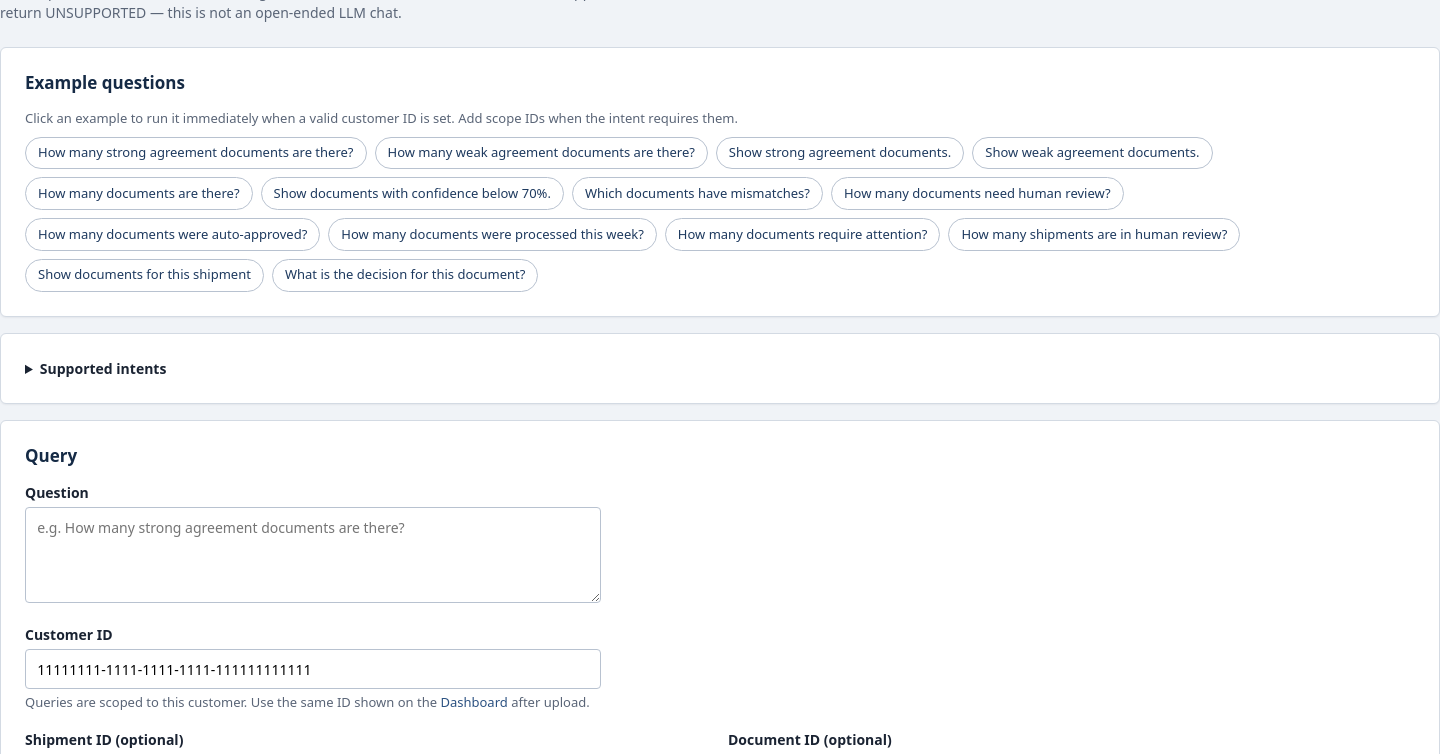
Test: QueryPage › runs an example query immediately when customer id is set
Step 1. Click the list item "How many documents are there?" → (139, 194), box [25,177,252,210]
(page scrolled)
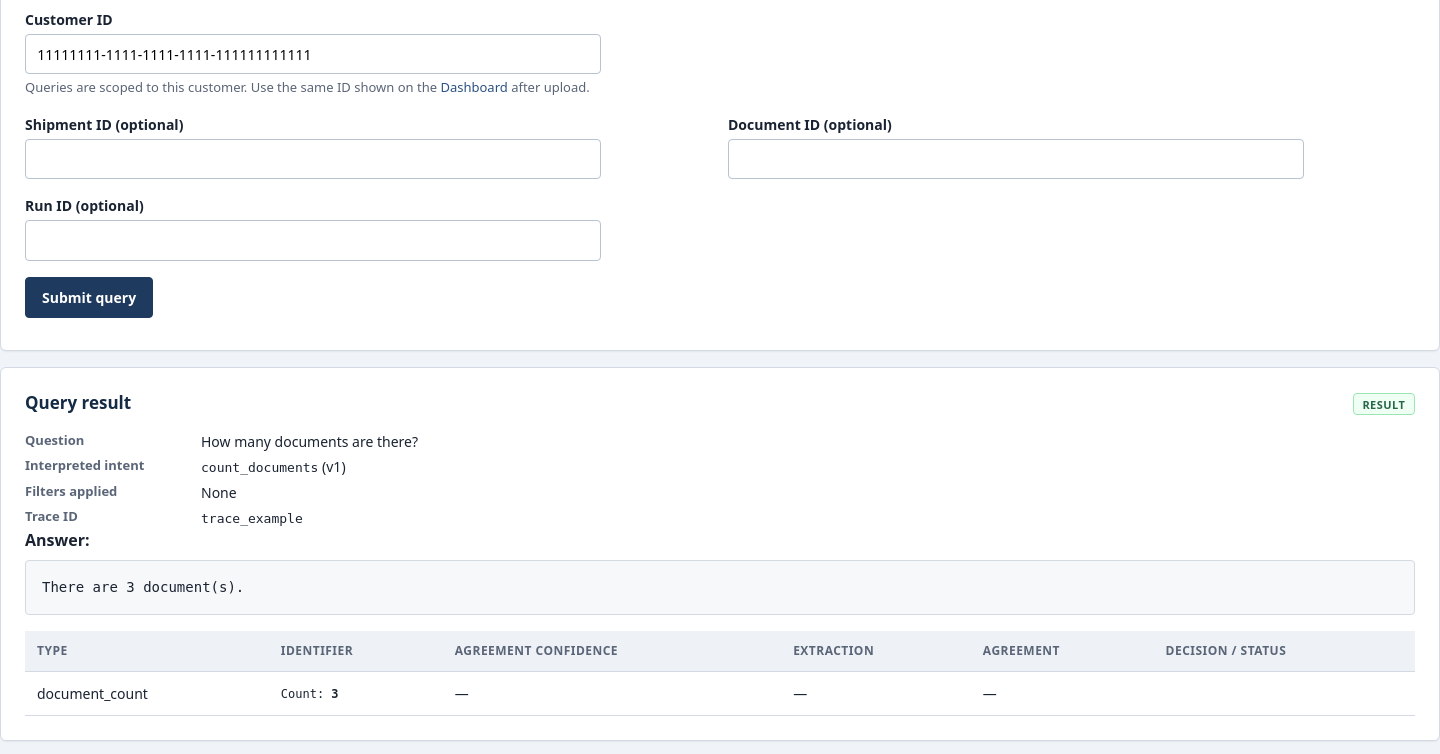
Result: the text "There are 3 document(s)." is shown at [25,560,1415,615]
Result: the text "RESULT" is shown at [1353,393,1415,415]
